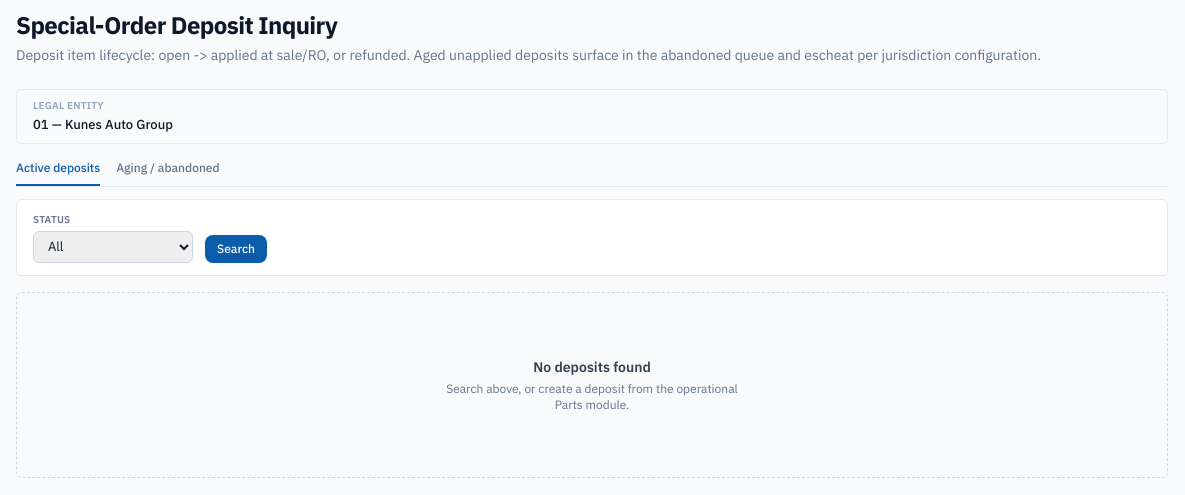
it: PartsDeposits › shows the unauthorized state on a 401/403 response
Step 1. Click the button with test id "deposits-search" → click(236, 248), box x1=205 y1=234 x2=267 y2=262
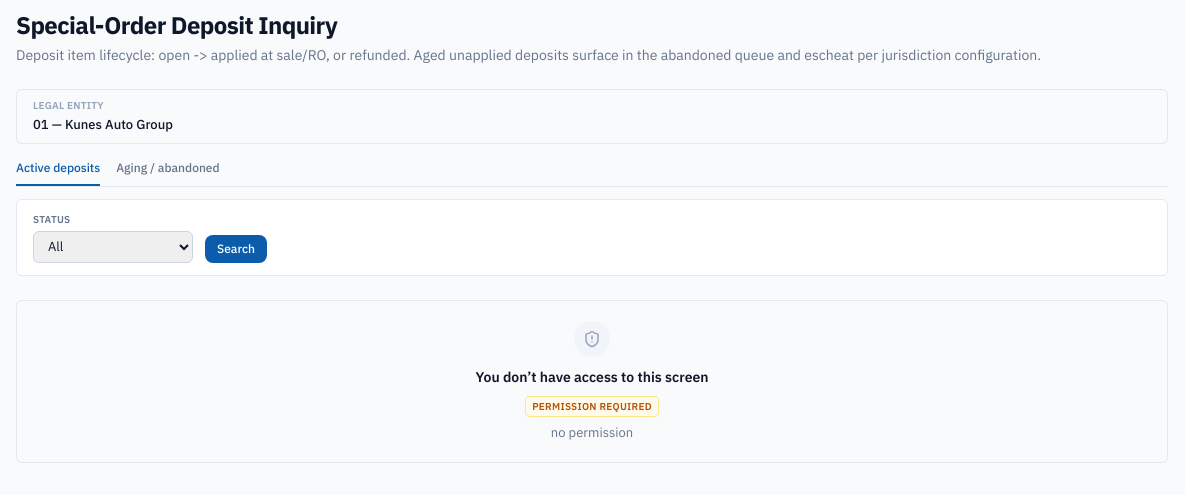
Now the element with test id "deposits-unauthorized" is shown, box x1=16 y1=300 x2=1168 y2=463
